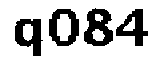0: (48, 8, 80, 50)
4: (116, 7, 148, 52)
8: (82, 7, 114, 50)
q: (9, 17, 44, 60)
